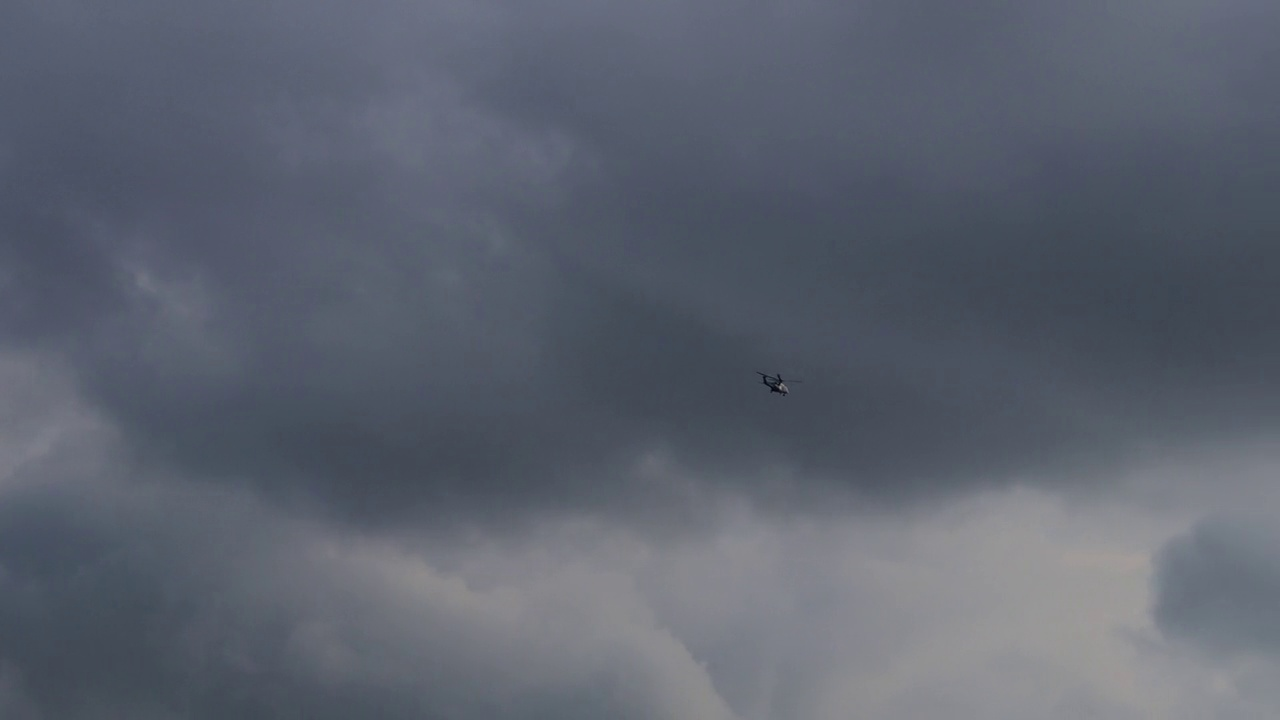heli: (757, 370, 802, 396)
